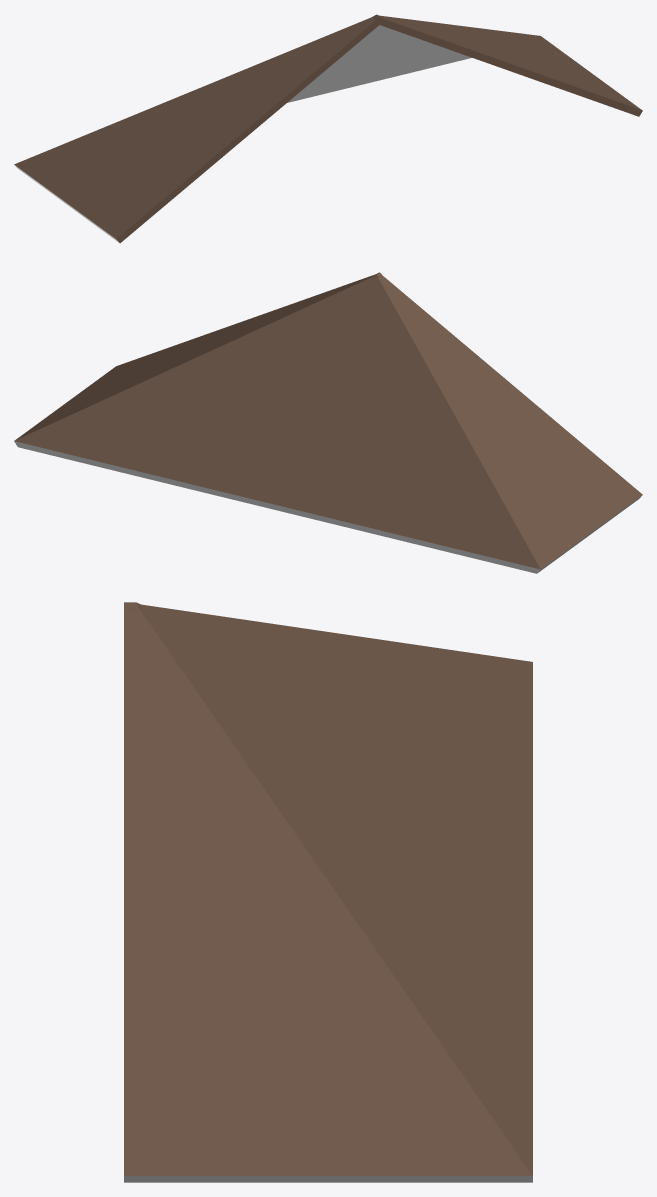
Rendered from Roof3_C2_02.fbx.
3 renders of one model, top to bottom at view 1: azimuth 30°, elevation 25°; view 2: azimuth 150°, elevation 25°; view 3: azimuth 270°, elevation 25°, orthographic. The views are drawn at different scales.
Visible parts, largest first — view 1: Roof3_C2_02; view 2: Roof3_C2_02; view 3: Roof3_C2_02.
Boxes of the visible parts, x1,y1,x2,y2 form: Roof3_C2_02: (14,14,642,243); Roof3_C2_02: (14,272,642,573); Roof3_C2_02: (124,602,532,1182).
Bounding box in the file's own units: 833 × 247 × 280.
